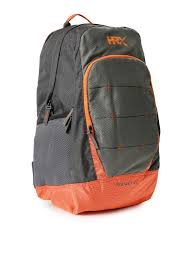backpack: (31, 13, 160, 214)
